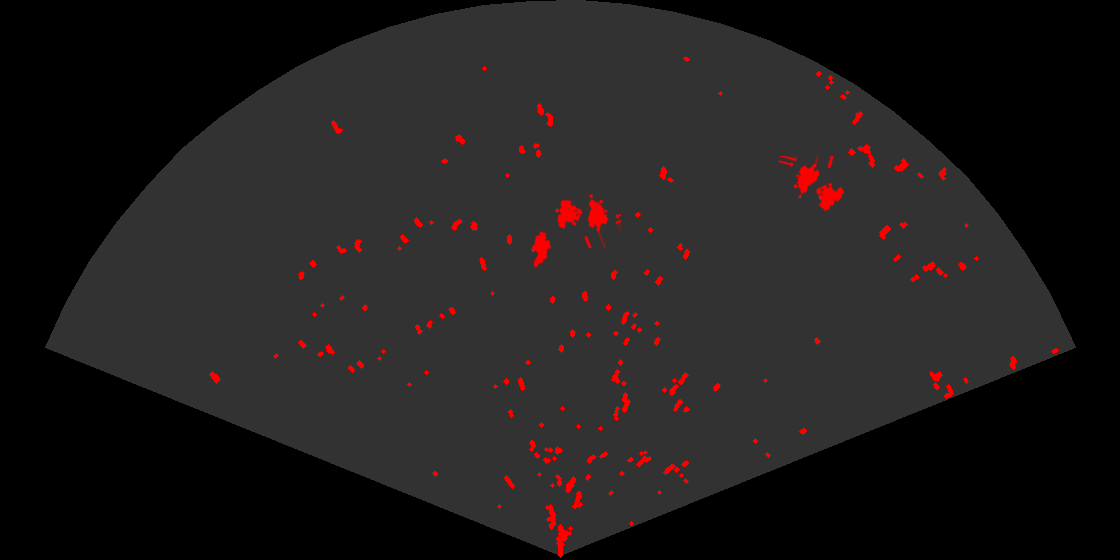AUV: (530, 229, 553, 270)
cage: (779, 156, 846, 213), (556, 192, 621, 248)
